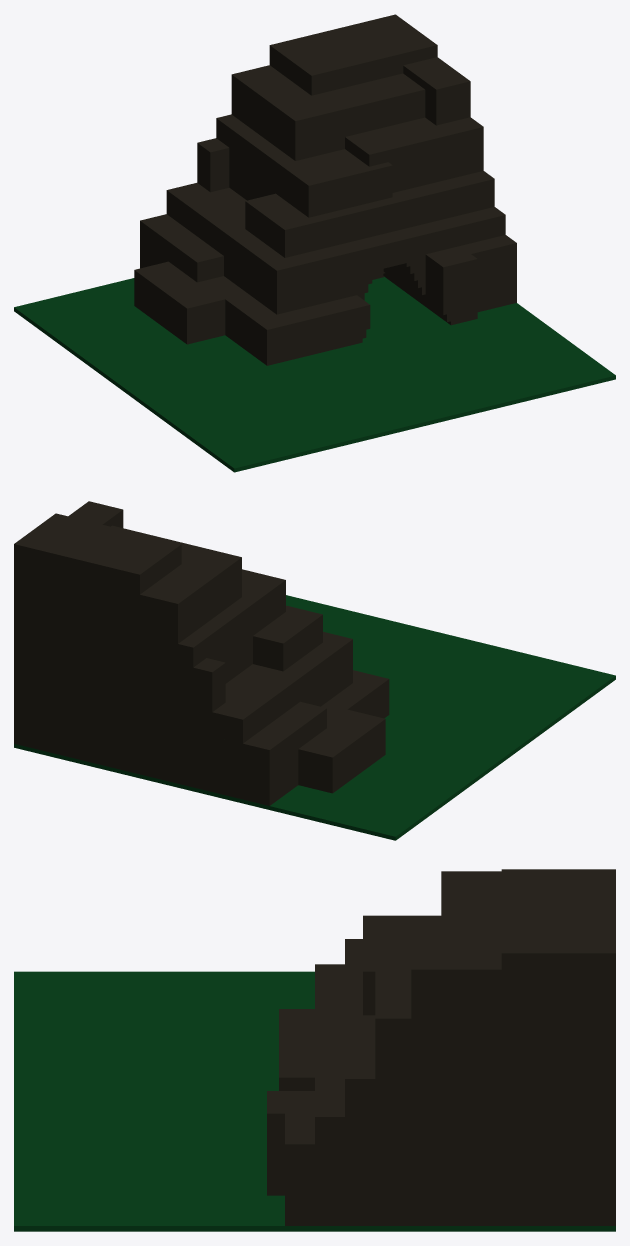
Rendered from Cave.fbx.
3 views of the same model, one above another, from view 1: azimuth 30°, elevation 25°; view 2: azimuth 150°, elevation 25°; view 3: azimuth 270°, elevation 25° (orthographic). The views are drawn at different scales.
Parts seen in each view (by area): view 1: Union; view 2: Union; view 3: Union.
Boxes of the visible parts, x1,y1,x2,y2 form: Union: (14,14,615,472); Union: (14,501,615,840); Union: (14,869,615,1231).
Bounding box in the file's own units: 100 × 51 × 100.
